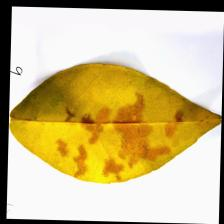canker: (47, 89, 187, 179)
